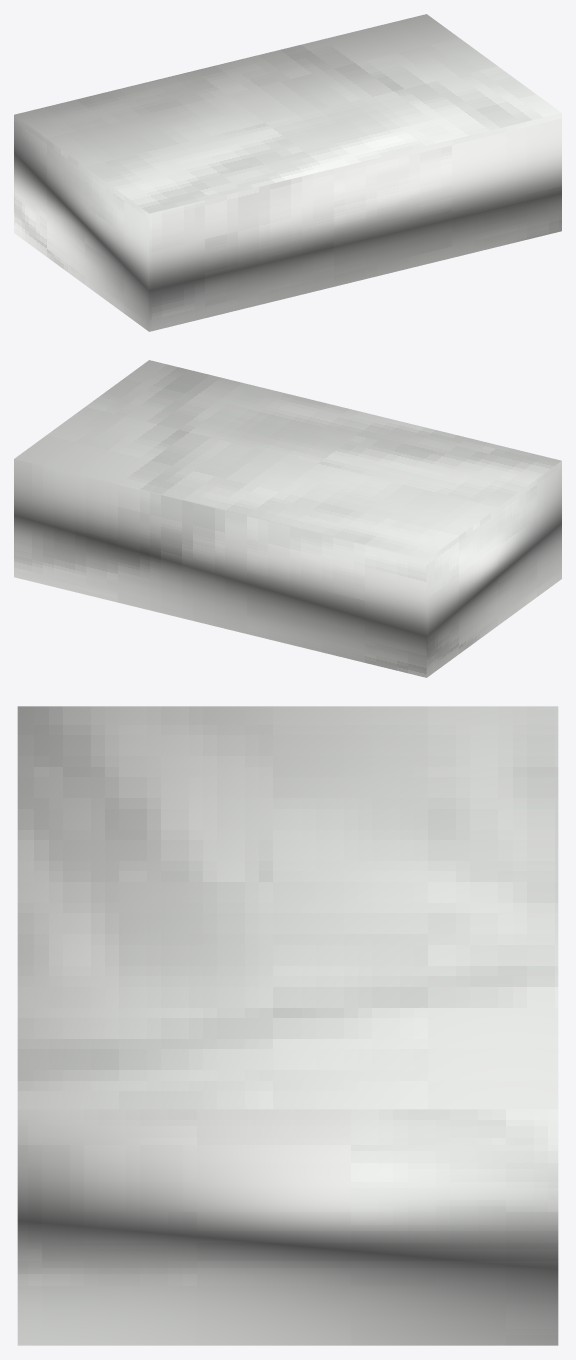
Rendered from pillo2.glb.
The picture shows the model from 3 angles, top to bottom: view 1: azimuth 30°, elevation 25°; view 2: azimuth 150°, elevation 25°; view 3: azimuth 270°, elevation 25°; orthographic projection. The views are drawn at different scales.
Parts seen in each view (by area): view 1: Cube.004; view 2: Cube.004; view 3: Cube.004.
Boxes of the visible parts, x1,y1,x2,y2 form: Cube.004: (14, 14, 561, 331); Cube.004: (14, 360, 561, 677); Cube.004: (17, 706, 558, 1345).
Size of the model in its own units: 1.49 by 0.4065 by 0.8429.
Materials: 1 (1 with a texture image).
